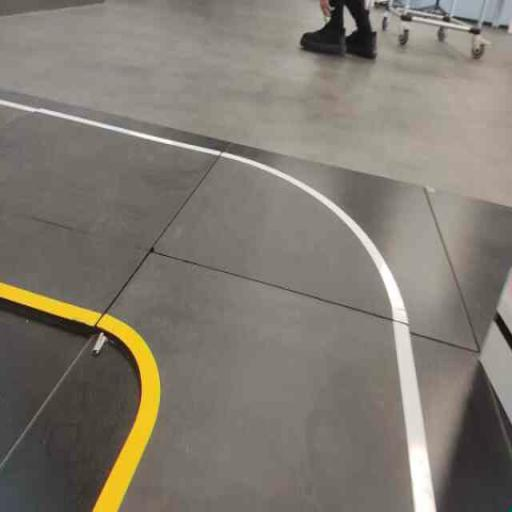left: (49, 141, 443, 467)
